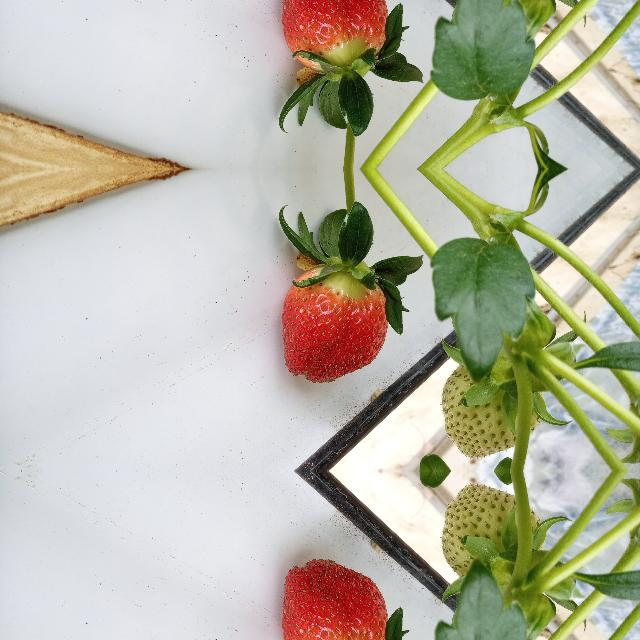Health_100: (280, 262, 388, 383), (280, 557, 387, 640), (280, 0, 387, 73)
Health_25: (442, 349, 540, 457), (442, 484, 540, 592)
